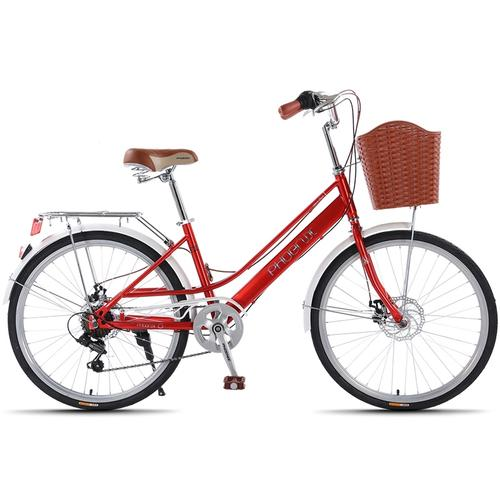单车: (7, 87, 500, 432)
